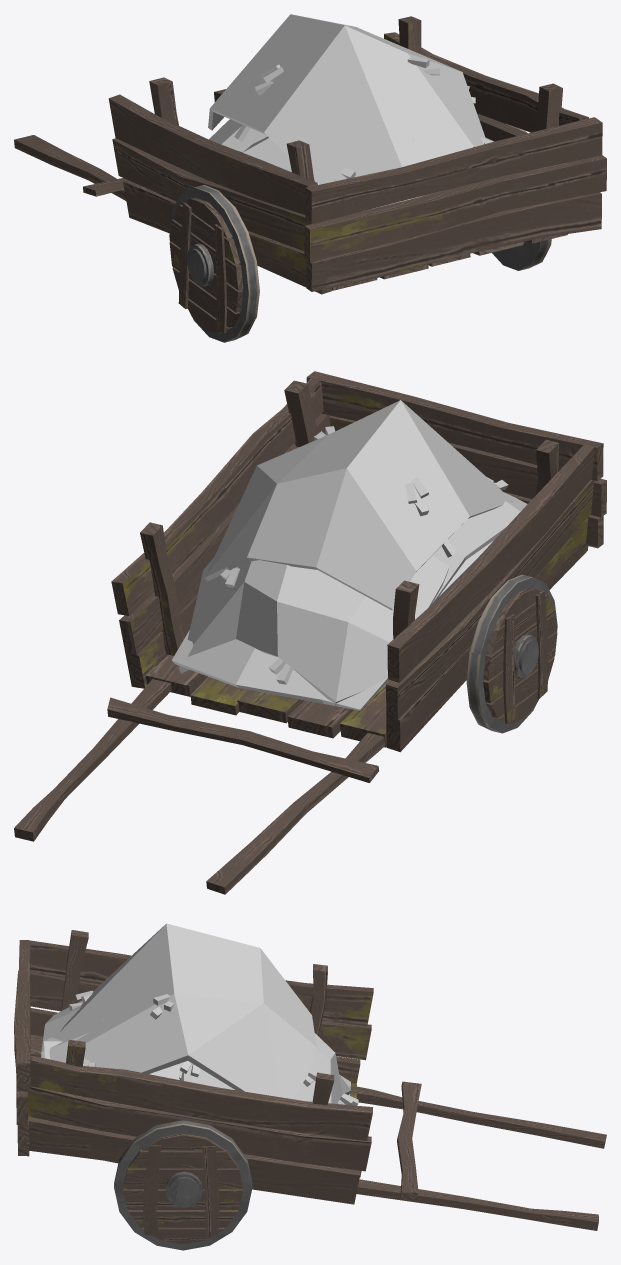
File: SM_HayWagon.fbx
3 renders of one model, top to bottom at view 1: azimuth 30°, elevation 25°; view 2: azimuth 150°, elevation 25°; view 3: azimuth 270°, elevation 25°, orthographic. The views are drawn at different scales.
Visible parts, largest first — view 1: SM_Wagon, SM_Hay; view 2: SM_Wagon, SM_Hay; view 3: SM_Wagon, SM_Hay.
Boxes of the visible parts, left/top/right/bottom form: SM_Wagon: left=14, top=16, right=606, bottom=342; SM_Hay: left=208, top=14, right=493, bottom=208; SM_Wagon: left=14, top=371, right=606, bottom=894; SM_Hay: left=171, top=400, right=527, bottom=710; SM_Wagon: left=14, top=930, right=606, bottom=1250; SM_Hay: left=41, top=923, right=358, bottom=1105.
Bounding box in the file's own units: 70.93 × 59.07 × 126.
